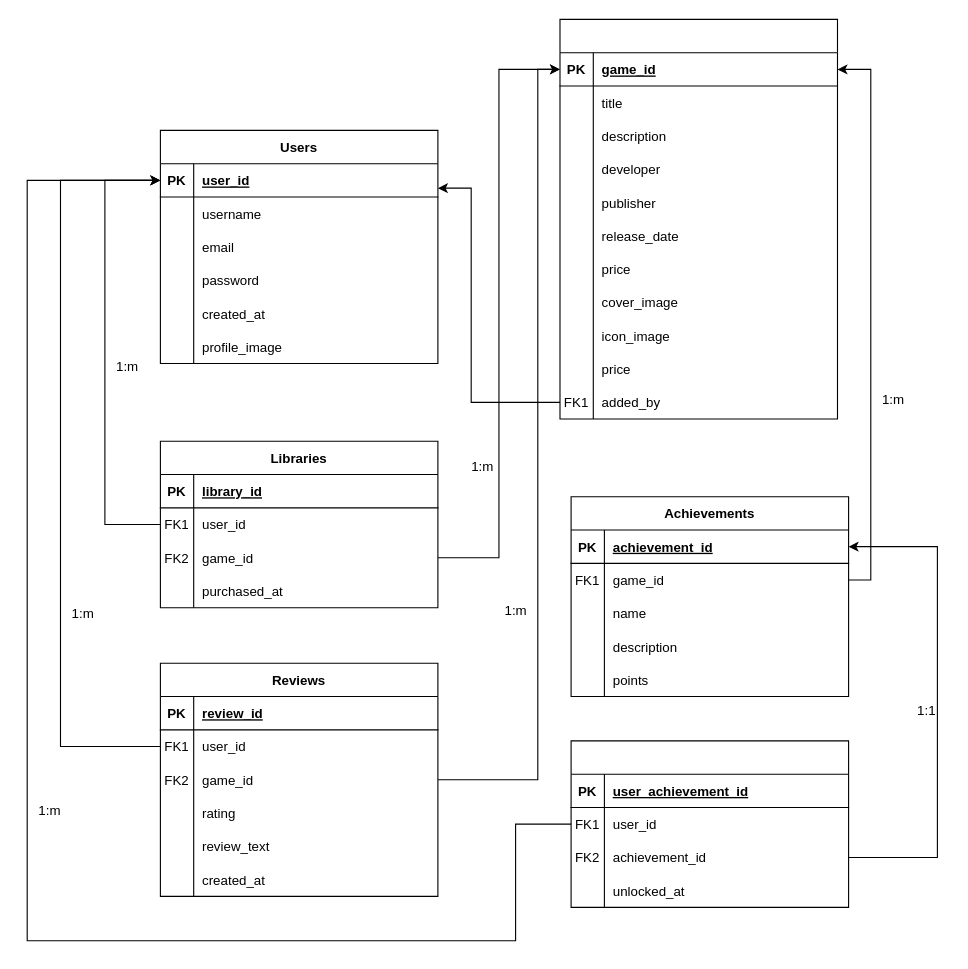
Image size: 968x969. Some labels were removed from this diagram. The box of each missing label's shape, as (x1, y1, x2, y2) in pixels:
Games: (559, 18, 837, 419)
User_Achievements: (570, 740, 849, 907)
